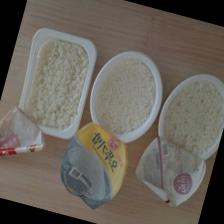rice: (19, 34, 94, 132), (87, 50, 164, 141), (156, 72, 224, 160)
